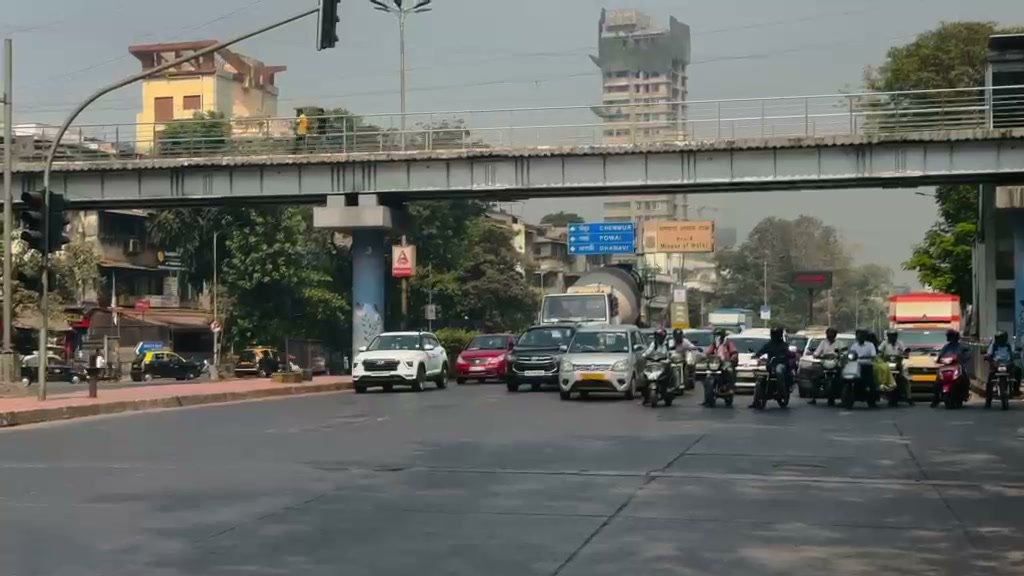car: (557, 326, 648, 401), (353, 331, 450, 393), (504, 324, 579, 392), (454, 334, 515, 384), (723, 331, 771, 392), (131, 347, 200, 381), (21, 352, 87, 384)
motorcycle: (796, 350, 843, 406), (984, 339, 1017, 410), (748, 358, 792, 411), (639, 356, 683, 408), (930, 352, 970, 409), (702, 360, 737, 408)
pedestrian: (754, 326, 795, 404), (933, 329, 973, 408), (843, 329, 880, 408), (667, 328, 704, 388), (707, 330, 740, 395)
truck: (886, 291, 962, 401)
